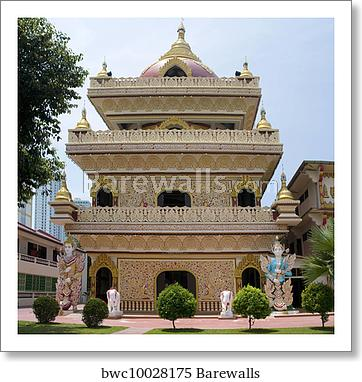Buddhist Temple: (49, 26, 291, 306)
